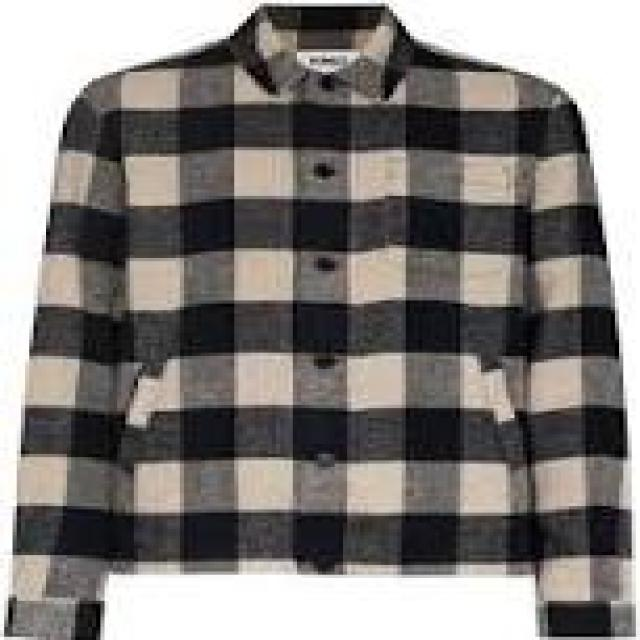plaid: (7, 5, 640, 640)
